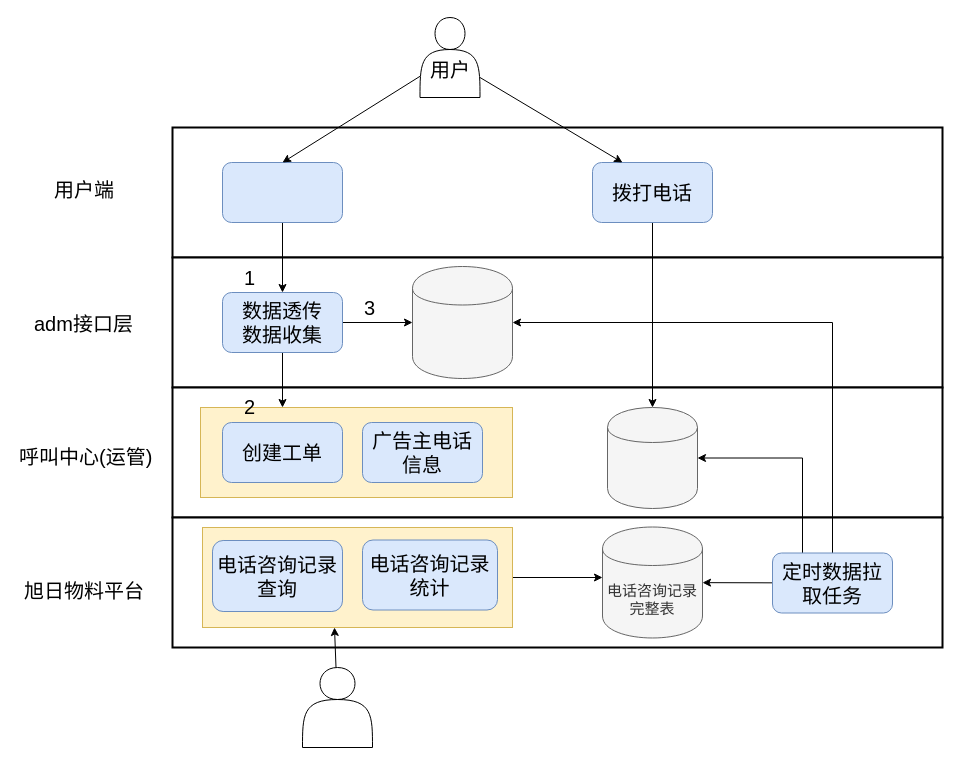
The diagram is 960 pixels wide and 765 high, and some of its shapes have lost their labels. Here are the shapes that lost their labels. From the top down, the box of each, then its label:
(222, 162, 342, 222): 获取电话
(412, 266, 512, 378): 电话咨询记录 临时表
(606, 406, 698, 508): 通话数据
(302, 666, 372, 748): 广告主
